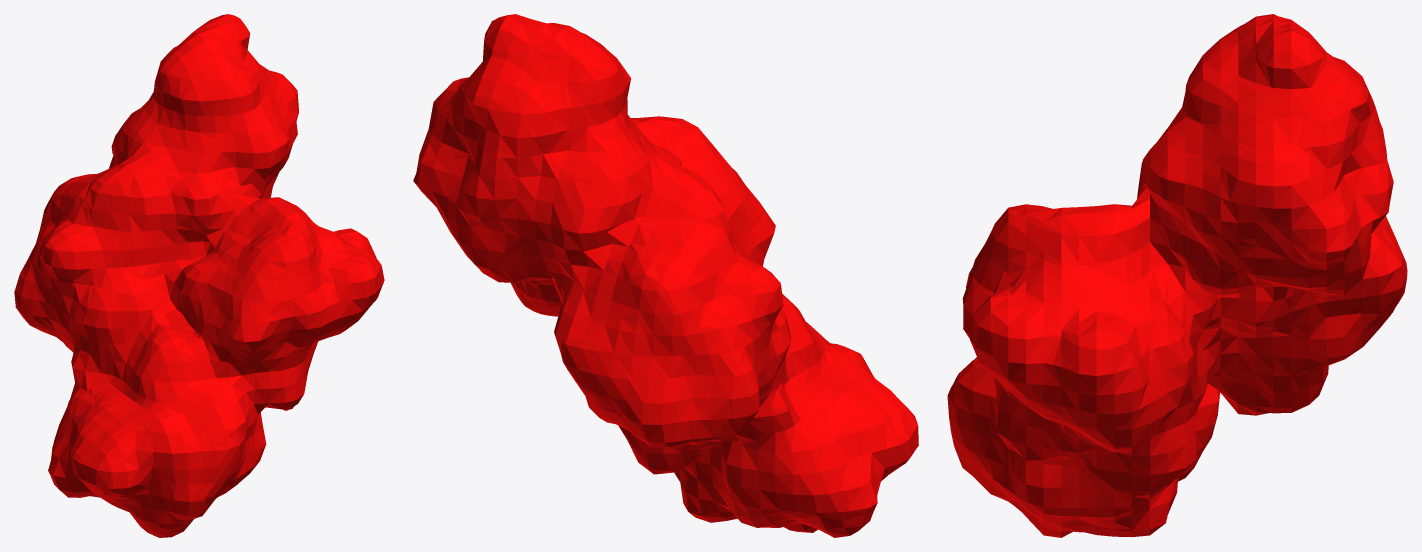
The model's file is pcm_coarse.dae.
The picture shows the model from 3 angles, left to right: view 1: azimuth 30°, elevation 25°; view 2: azimuth 150°, elevation 25°; view 3: azimuth 270°, elevation 25°; orthographic projection. The views are drawn at different scales.
Visible parts, largest first — view 1: pcm; view 2: pcm; view 3: pcm.
Part boxes in pixels (<box>): pcm: <box>14,14,384,537</box>; pcm: <box>413,14,918,537</box>; pcm: <box>947,14,1407,537</box>.
Size of the model in its own units: 80.52 by 106 by 73.59.
